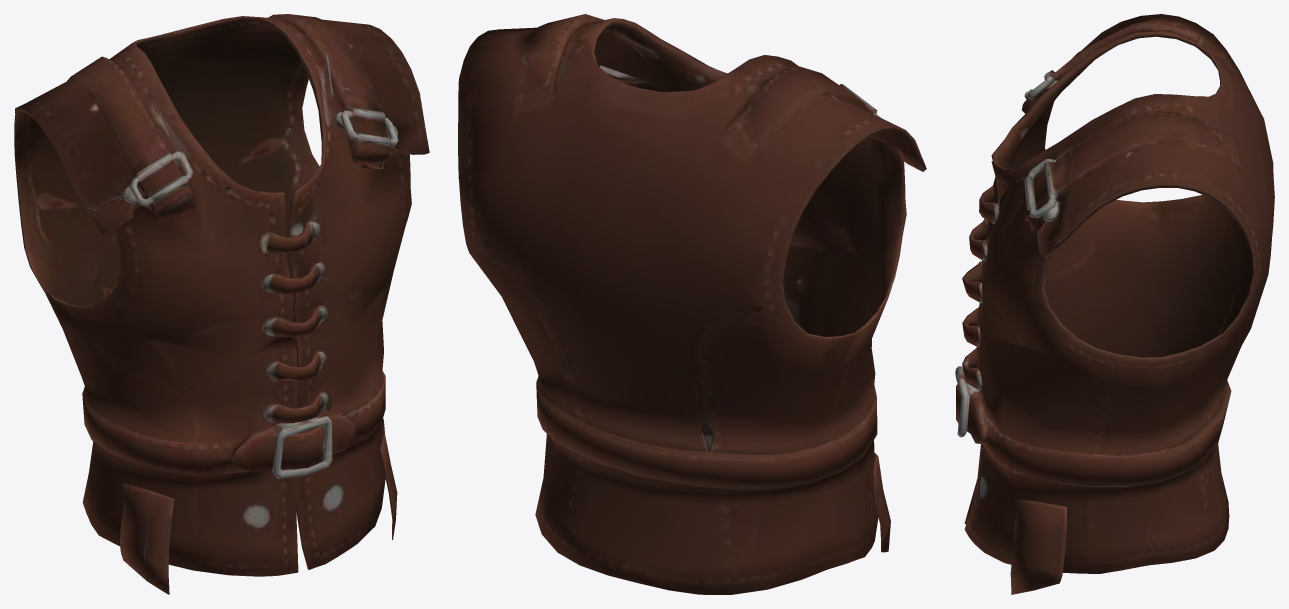
Rendered from leather_chest.glb.
The picture shows the model from 3 angles, left to right: view 1: azimuth 30°, elevation 25°; view 2: azimuth 150°, elevation 25°; view 3: azimuth 270°, elevation 25°; orthographic projection. The views are drawn at different scales.
Size of the model in its own units: 0.7349 by 0.9531 by 0.5786.
Materials: 1 (1 with a texture image).
